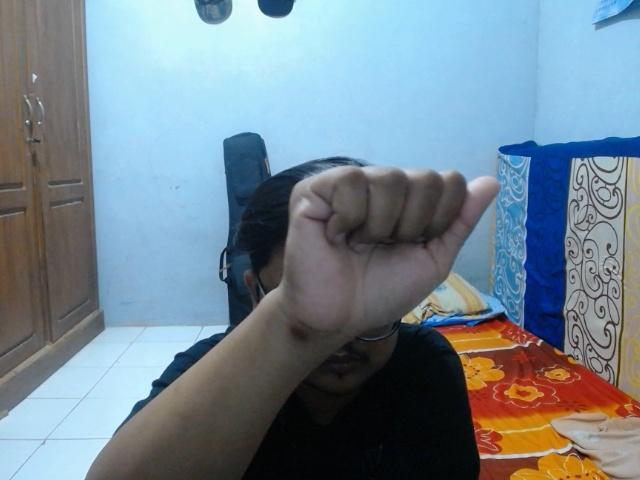Grab: (284, 163, 500, 339)
